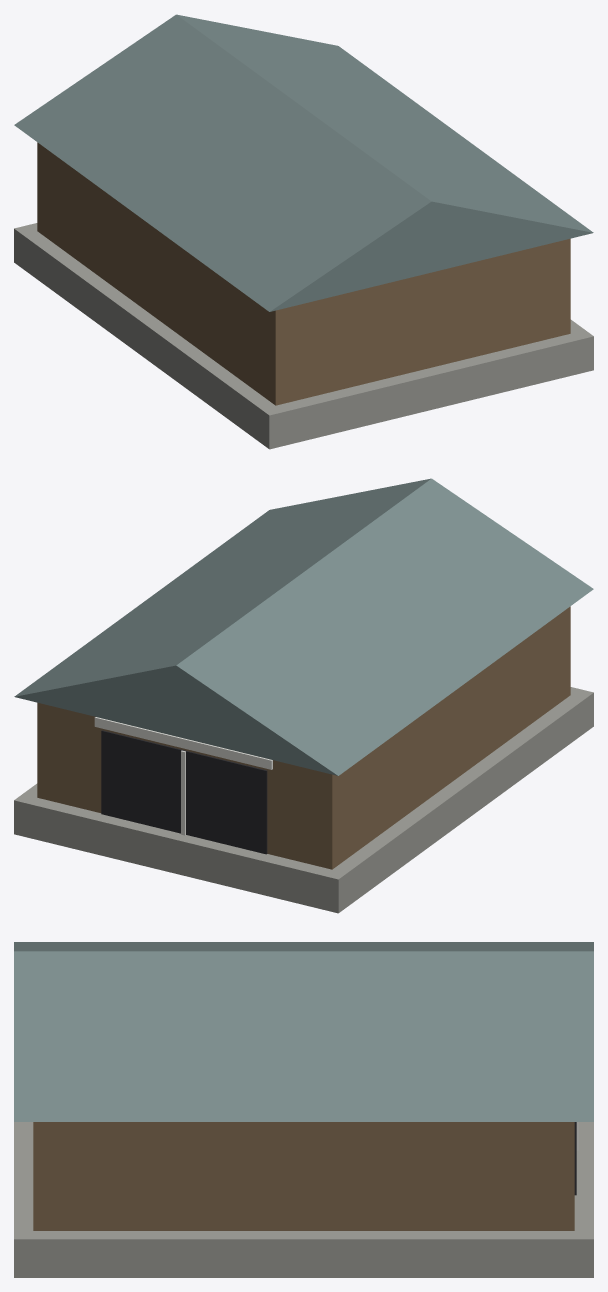
Rendered from marina-boathouse.glb.
3 views of the same model, one above another, from view 1: azimuth 30°, elevation 25°; view 2: azimuth 150°, elevation 25°; view 3: azimuth 270°, elevation 25° (orthographic). The views are drawn at different scales.
Visible parts, largest first — view 1: marina-boathouse: Palm Bay roof, marina-boathouse: Palm Bay wood, marina-boathouse: Palm Bay concrete; view 2: marina-boathouse: Palm Bay roof, marina-boathouse: Palm Bay wood, marina-boathouse: Palm Bay concrete, marina-boathouse: Palm Bay dark, marina-boathouse: Palm Bay white; view 3: marina-boathouse: Palm Bay roof, marina-boathouse: Palm Bay wood, marina-boathouse: Palm Bay concrete.
Part boxes in pixels (x1,y1,x2,y2): marina-boathouse: Palm Bay roof: [14, 14, 593, 311]; marina-boathouse: Palm Bay wood: [37, 142, 570, 405]; marina-boathouse: Palm Bay concrete: [14, 223, 593, 449]; marina-boathouse: Palm Bay roof: [14, 478, 593, 775]; marina-boathouse: Palm Bay wood: [37, 606, 570, 869]; marina-boathouse: Palm Bay concrete: [14, 687, 593, 913]; marina-boathouse: Palm Bay dark: [101, 730, 267, 854]; marina-boathouse: Palm Bay white: [94, 717, 272, 835]; marina-boathouse: Palm Bay roof: [14, 942, 593, 1121]; marina-boathouse: Palm Bay wood: [33, 1122, 574, 1230]; marina-boathouse: Palm Bay concrete: [14, 1122, 593, 1277].
Bounding box in the file's own units: 11 × 6.75 × 15.
